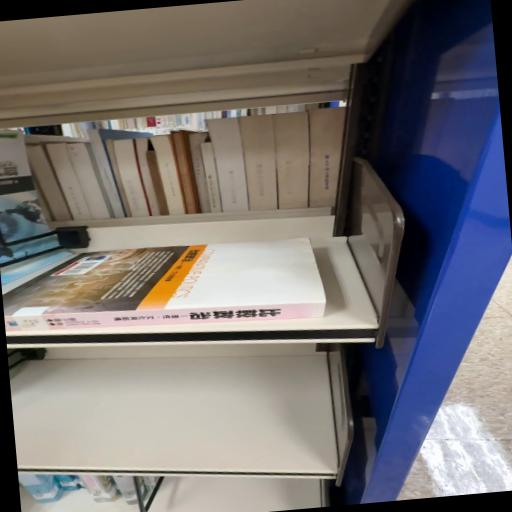flat: (3, 239, 327, 333)
